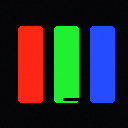3 line_h: (63, 98, 83, 100)
